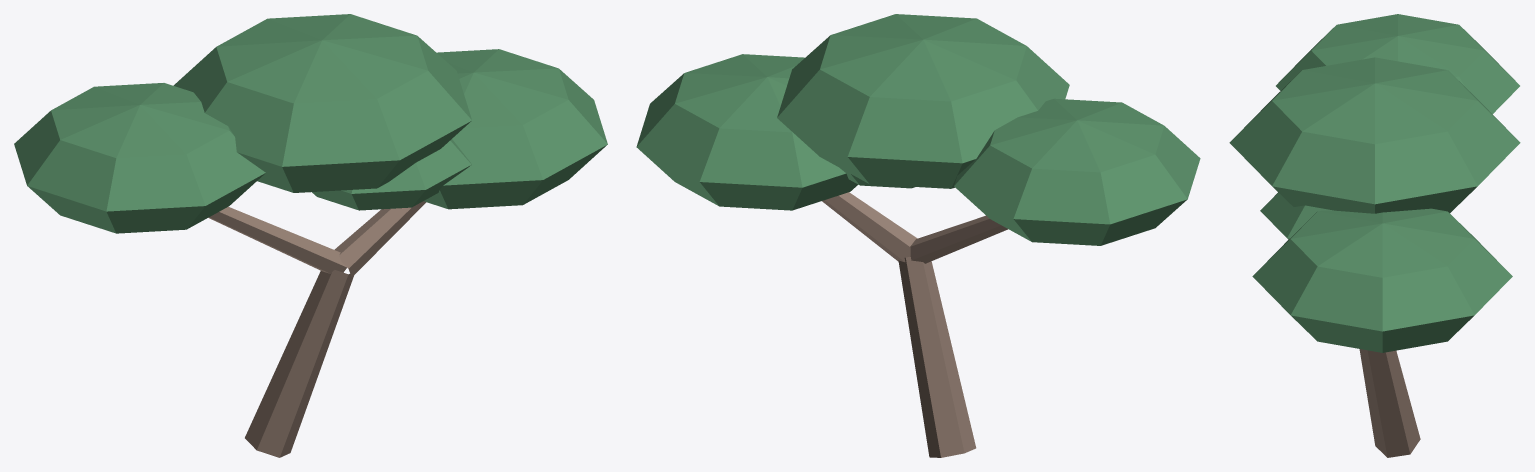
The model's file is matsu_pine_tree.glb.
3 views of the same model, side by side, from view 1: azimuth 30°, elevation 25°; view 2: azimuth 150°, elevation 25°; view 3: azimuth 270°, elevation 25° (orthographic). The views are drawn at different scales.
Visible parts, largest first — view 1: matsu_pine_tree; view 2: matsu_pine_tree; view 3: matsu_pine_tree.
Boxes of the visible parts, x1,y1,x2,y2 form: matsu_pine_tree: (14,14,607,457); matsu_pine_tree: (636,14,1200,457); matsu_pine_tree: (1229,14,1520,457).
Bounding box in the file's own units: 7.9 × 5.56 × 3.8.
